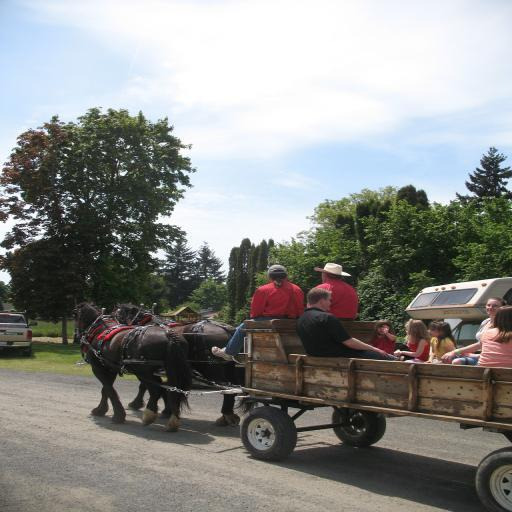horse: (111, 302, 263, 430), (72, 297, 196, 435)
